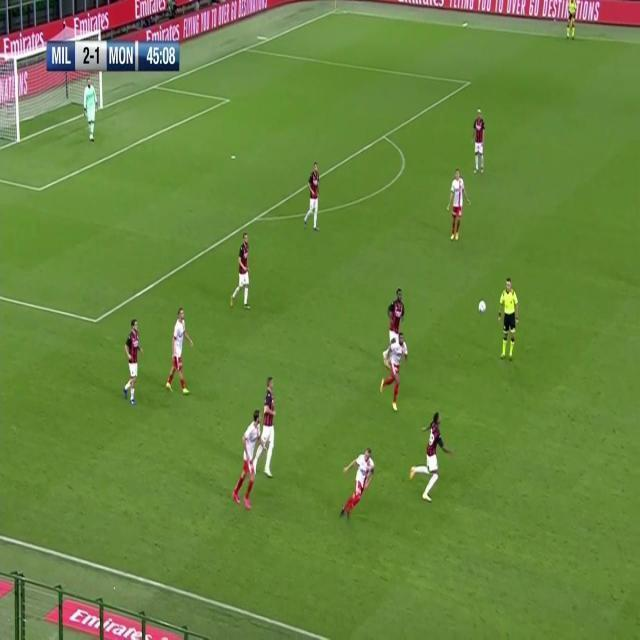ball: (477, 298, 487, 315)
goalkeeper: (83, 77, 99, 142)
player: (410, 410, 453, 504), (232, 407, 262, 509), (339, 442, 377, 522), (164, 306, 194, 396), (380, 331, 405, 416), (121, 317, 143, 407), (259, 375, 278, 478), (446, 167, 471, 242), (229, 231, 252, 311), (303, 159, 322, 233), (472, 107, 487, 177), (386, 287, 407, 333)
referee: (497, 274, 520, 363), (565, 0, 577, 41)
